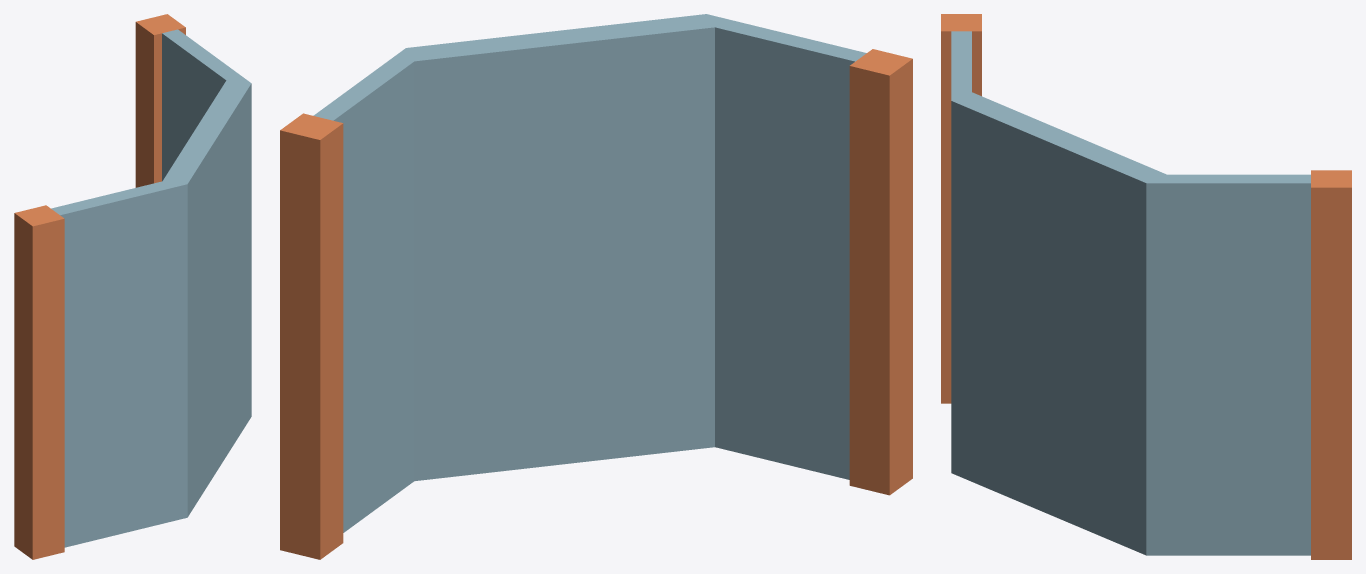
File: wallCornerDiagonal.fbx
The picture shows the model from 3 angles, left to right: view 1: azimuth 30°, elevation 25°; view 2: azimuth 150°, elevation 25°; view 3: azimuth 270°, elevation 25°; orthographic projection. The views are drawn at different scales.
Visible parts, largest first — view 1: wallCornerDiagonal; view 2: wallCornerDiagonal; view 3: wallCornerDiagonal.
Boxes of the visible parts, x1,y1,x2,y2 form: wallCornerDiagonal: [14, 14, 251, 559]; wallCornerDiagonal: [280, 14, 912, 559]; wallCornerDiagonal: [941, 14, 1351, 559].
Size of the model in its own units: 10 by 10 by 10.
